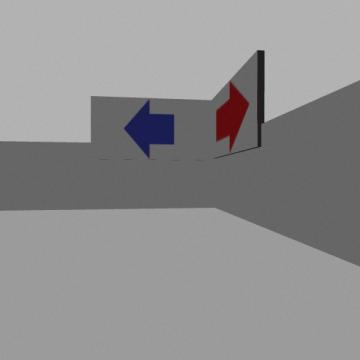blue_left: (124, 100, 174, 158)
red_right: (216, 81, 249, 152)
